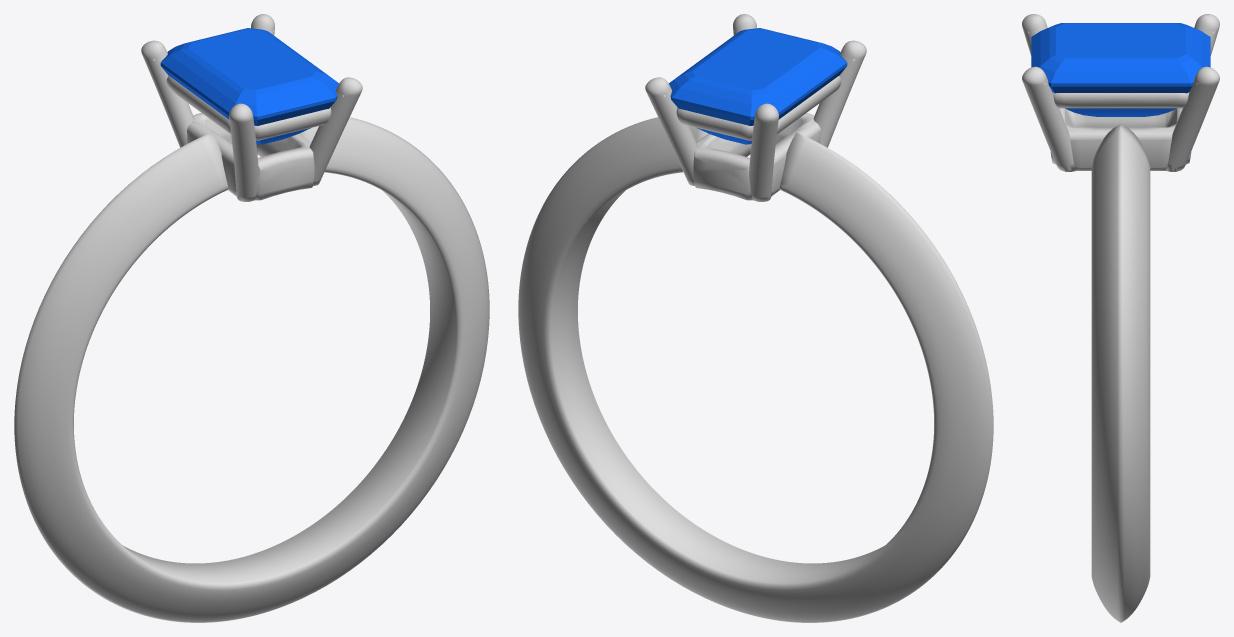
File: bluesapphire-emerald-platinum-4prong-knifeedge-solitaire.glb
3 views of the same model, side by side, from view 1: azimuth 30°, elevation 25°; view 2: azimuth 150°, elevation 25°; view 3: azimuth 270°, elevation 25° (orthographic).
Parts seen in each view (by area): view 1: metal, stone; view 2: metal, stone; view 3: metal, stone.
Part boxes in pixels (box(x1,y1,x2,y2)): metal: box(14, 14, 489, 622); stone: box(160, 28, 338, 144); metal: box(518, 14, 993, 622); stone: box(669, 28, 847, 144); metal: box(1022, 14, 1219, 622); stone: box(1031, 23, 1210, 116).
Size of the model in its own units: 20.5 by 22.94 by 7.4.
